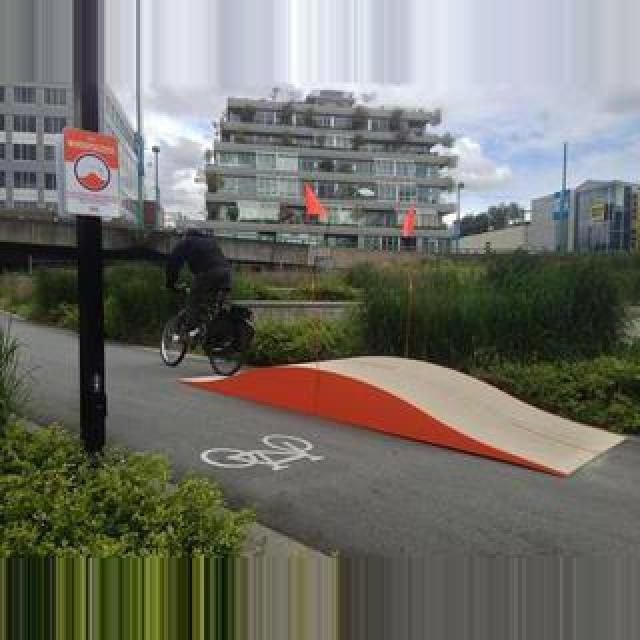MC-Bike: (166, 222, 234, 354)
Person: (158, 282, 256, 374)
